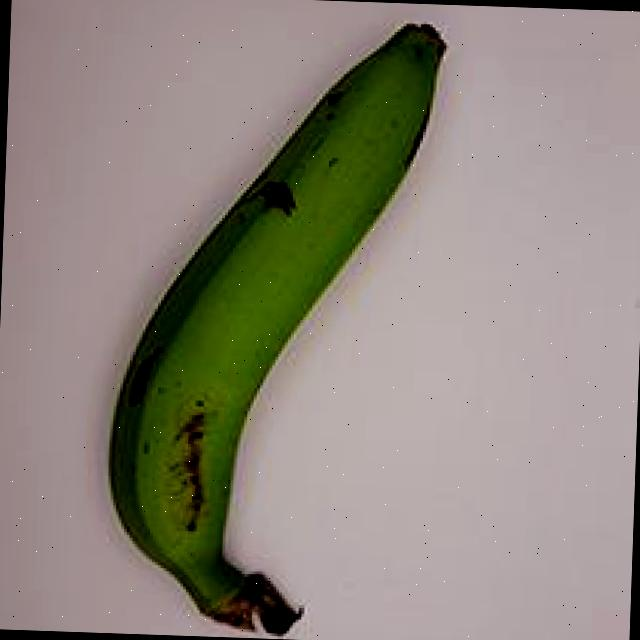Raw: (50, 0, 462, 640)
